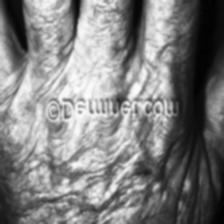Unclassified: (11, 119, 200, 224), (16, 36, 186, 97)
